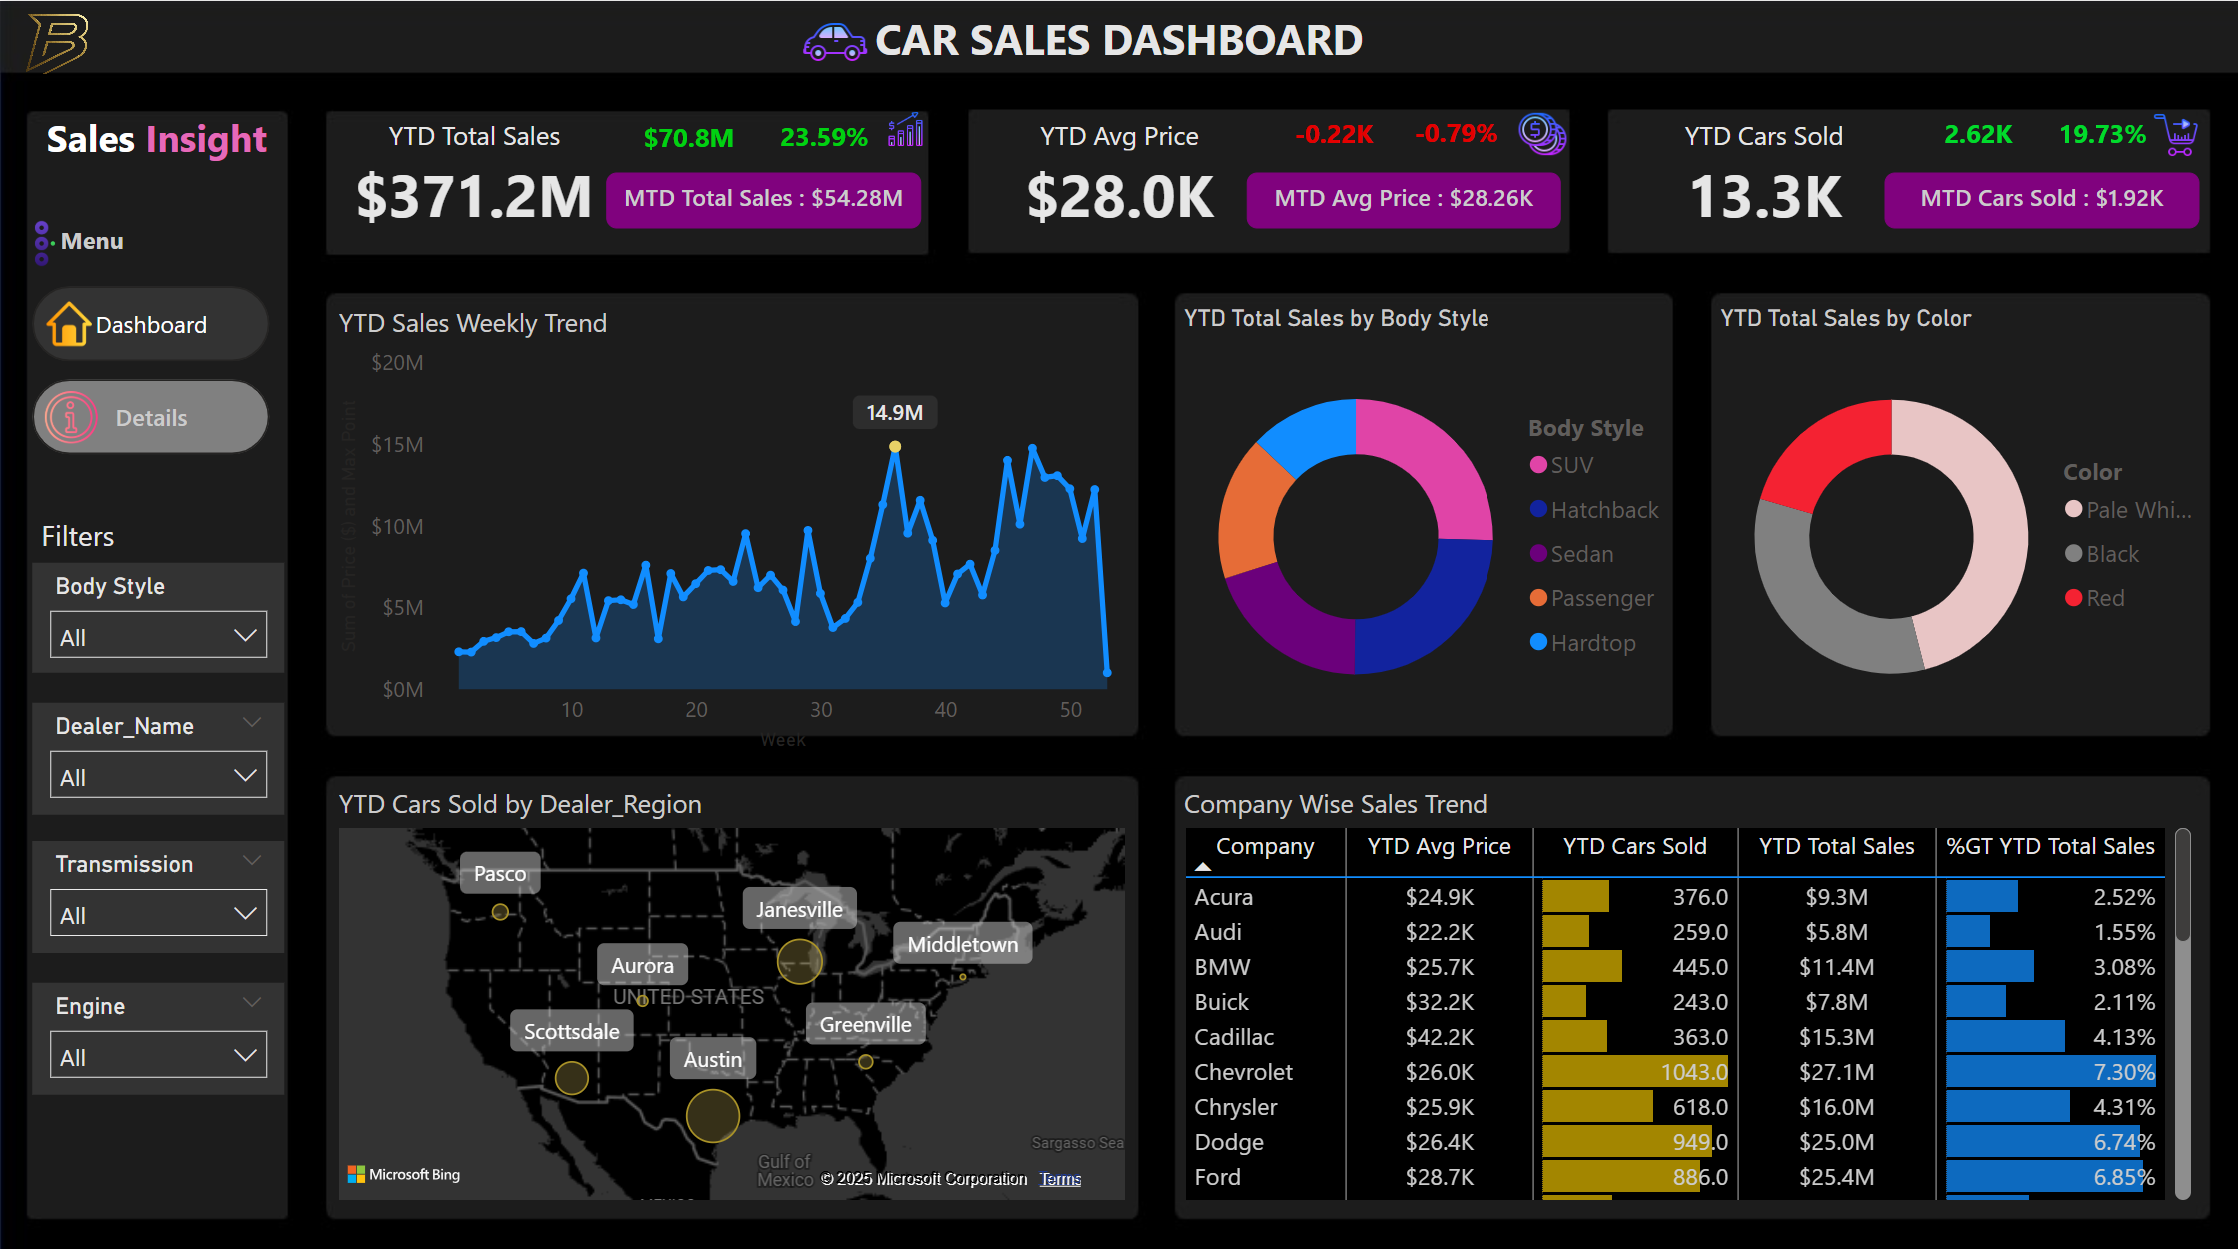

This screenshot's page, from the dashboard's own definition file:
{"tool":"powerbi","page":{"name":"Dashboard","canvas":[1280,720],"ordinal":0},"visuals":[{"type":"card","title":"YTD Total Sales","fields":{"Values":["car_data.YTD Total Sales"]},"box":[188.8,65.7,164.8,70.9],"z":0},{"type":"card","fields":{"Values":["car_data.Sales Difference"]},"box":[353.7,65.7,80.3,26.1],"z":1000},{"type":"card","fields":{"Values":["car_data.YOY Sales Growth"]},"box":[431,65,81,26],"z":2000},{"type":"card","fields":{"Values":["car_data.MTD KPI"]},"box":[346.7,97.8,180,32.2],"z":3000},{"type":"card","title":"YTD Avg Price ","fields":{"Values":["car_data.YTD Avg Price"]},"box":[557.8,65.6,164.4,71.1],"z":4000},{"type":"card","title":"YTD Cars Sold ","fields":{"Values":["car_data.YTD Cars Sold"]},"box":[926.7,65.6,164.4,71.1],"z":5000},{"type":"card","fields":{"Values":["car_data.AVG Price Diff"]},"box":[722.2,64.4,81.1,26.7],"z":6000},{"type":"card","fields":{"Values":["car_data.YOY AVG Price Growth"]},"box":[792,63,81,26],"z":7000},{"type":"card","fields":{"Values":["car_data.MTD AVG KPI"]},"box":[713.3,97.8,180,32.2],"z":8000},{"type":"card","fields":{"Values":["car_data.Cars Sold Diff"]},"box":[1091.1,64.4,81.1,26.7],"z":9000},{"type":"card","fields":{"Values":["car_data.YOY Car Sold Growth"]},"box":[1162,64,81,27],"z":10000},{"type":"card","fields":{"Values":["car_data.MTD Cars Sold KPI"]},"box":[1077.8,97.8,180,32.2],"z":11000},{"type":"areaChart","title":"YTD Sales Weekly Trend","fields":{"Y":["Sum(car_data.Price ($))","car_data.Max Point"],"Category":["Calendar Table.Week"]},"box":[188.9,173.3,458.9,260],"z":12000},{"type":"donutChart","title":"YTD Total Sales by Body Style","fields":{"Y":["car_data.Total Sales"],"Category":["car_data.Body Style"]},"box":[672.2,173.3,291.1,251.1],"z":13000},{"type":"donutChart","title":"YTD Total Sales by Color","fields":{"Y":["car_data.Total Sales"],"Category":["car_data.Color"]},"box":[978.9,173.3,291.1,251.1],"z":14000},{"type":"map","fields":{"Category":["car_data.Dealer_Region"],"Size":["car_data.YTD Cars Sold"]},"box":[188.9,447.8,458.9,242.2],"z":15000},{"type":"tableEx","title":"Company Wise Sales Trend","fields":{"Values":["car_data.Company","car_data.YTD Avg Price","car_data.YTD Cars Sold","car_data.YTD Total Sales1","car_data.YTD Total Sales"]},"box":[672.2,447.8,585.6,242.2],"z":16000},{"type":"textbox","box":[408,0,464,47],"z":17000},{"type":"slicer","fields":{"Values":["car_data.Body Style"]},"box":[19,321,144,63],"z":18000},{"type":"slicer","fields":{"Values":["car_data.Dealer_Name"]},"box":[19,401,144,64],"z":19000},{"type":"slicer","fields":{"Values":["car_data.Transmission"]},"box":[19,480,144,64],"z":20000},{"type":"slicer","fields":{"Values":["car_data.Engine"]},"box":[19,561,144,64],"z":21000},{"type":"textbox","box":[19,289,64,32],"z":21001},{"type":"textbox","box":[10,58,160,47],"z":21002},{"type":"textbox","box":[30,122,55,38],"z":21003},{"type":"pageNavigator","box":[19,163,136,97],"z":21004},{"type":"image","box":[0,0,67,47],"z":21005},{"type":"image","box":[451,0,53,47],"z":21006},{"type":"image","box":[19,161,42,47],"z":21007},{"type":"image","box":[19,215,44,46],"z":21008},{"type":"image","box":[494,56,48,34],"z":21009},{"type":"image","box":[860,54,45,44],"z":21010},{"type":"image","box":[1221,56,46,41],"z":21011},{"type":"image","box":[4,118,44,41],"z":21012}]}

Visuals, with their boxes in screenshot pixels (x1, y1, x2, y2), scaled from the page's 1280x720 canvas onto the 2238x1249 screenshot:
"YTD Total Sales" card: box(330, 114, 618, 237)
card - car_data.Sales Difference: box(618, 114, 759, 159)
card - car_data.YOY Sales Growth: box(754, 113, 895, 158)
card - car_data.MTD KPI: box(606, 170, 921, 226)
"YTD Avg Price " card: box(975, 114, 1263, 237)
"YTD Cars Sold " card: box(1620, 114, 1908, 237)
card - car_data.AVG Price Diff: box(1263, 112, 1405, 158)
card - car_data.YOY AVG Price Growth: box(1385, 109, 1526, 154)
card - car_data.MTD AVG KPI: box(1247, 170, 1562, 226)
card - car_data.Cars Sold Diff: box(1908, 112, 2050, 158)
card - car_data.YOY Car Sold Growth: box(2032, 111, 2173, 158)
card - car_data.MTD Cars Sold KPI: box(1884, 170, 2199, 226)
"YTD Sales Weekly Trend" areaChart: box(330, 301, 1133, 752)
"YTD Total Sales by Body Style" donutChart: box(1175, 301, 1684, 736)
"YTD Total Sales by Color" donutChart: box(1712, 301, 2221, 736)
map - car_data.Dealer_Region x car_data.YTD Cars Sold: box(330, 777, 1133, 1197)
"Company Wise Sales Trend" tableEx: box(1175, 777, 2199, 1197)
textbox: box(713, 0, 1525, 82)
slicer - car_data.Body Style: box(33, 557, 285, 666)
slicer - car_data.Dealer_Name: box(33, 696, 285, 807)
slicer - car_data.Transmission: box(33, 833, 285, 944)
slicer - car_data.Engine: box(33, 973, 285, 1084)
textbox: box(33, 501, 145, 557)
textbox: box(17, 101, 297, 182)
textbox: box(52, 212, 149, 278)
pageNavigator: box(33, 283, 271, 451)
image: box(0, 0, 117, 82)
image: box(789, 0, 881, 82)
image: box(33, 279, 107, 361)
image: box(33, 373, 110, 453)
image: box(864, 97, 948, 156)
image: box(1504, 94, 1582, 170)
image: box(2135, 97, 2215, 168)
image: box(7, 205, 84, 276)
